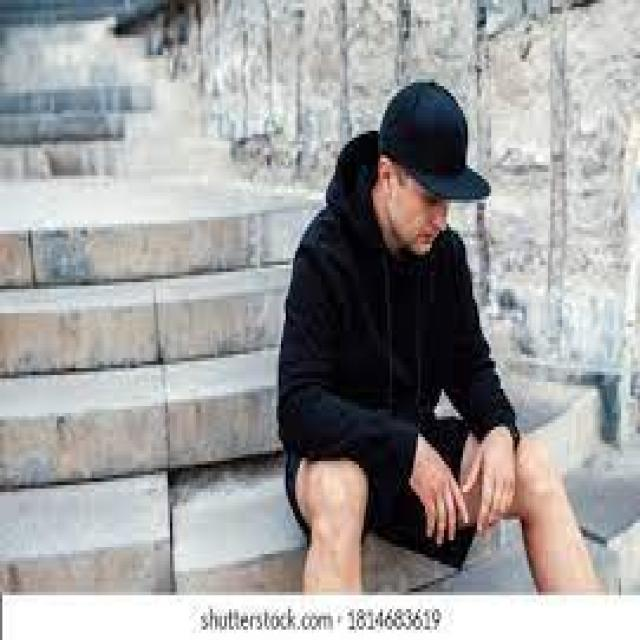cap: (378, 79, 496, 241)
